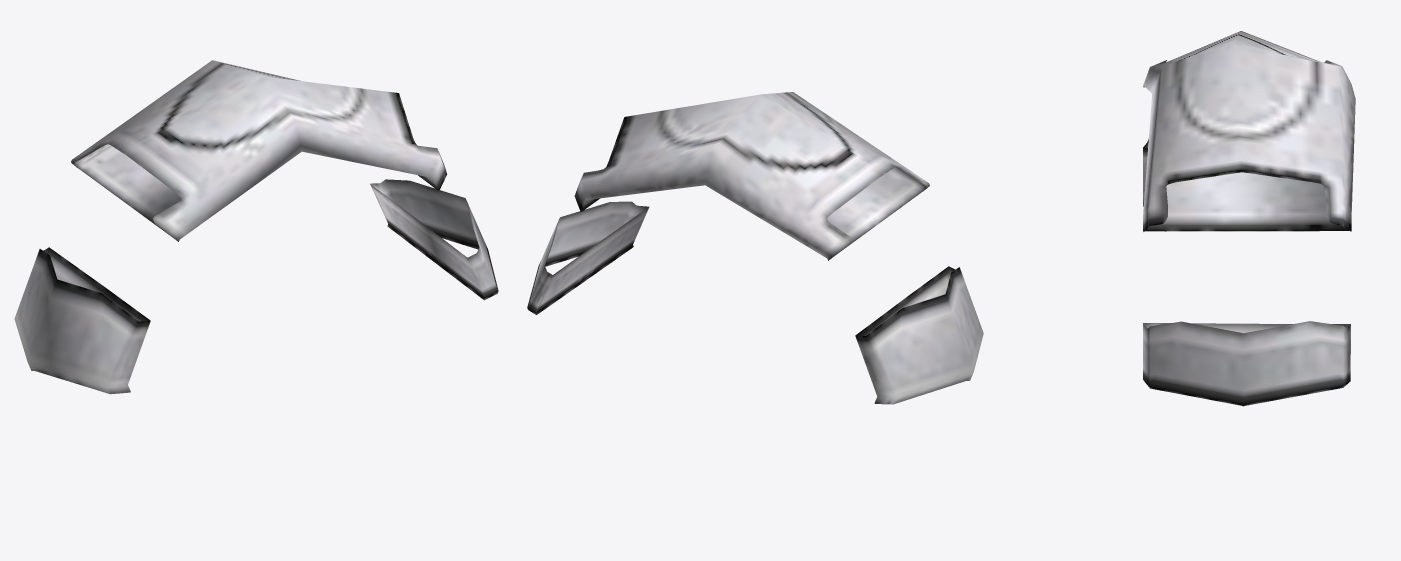
Rendered from ring_s02.fbx.
3 views of the same model, side by side, from view 1: azimuth 30°, elevation 25°; view 2: azimuth 150°, elevation 25°; view 3: azimuth 270°, elevation 25° (orthographic). The views are drawn at different scales.
Parts seen in each view (by area): view 1: mesh_node; view 2: mesh_node; view 3: mesh_node.
Part boxes in pixels (x1,y1,x2,y2): mesh_node: (14,60,498,394); mesh_node: (527,92,983,404); mesh_node: (1143,31,1355,406).
Size of the model in its own units: 0.0246 by 0.0246 by 0.0167.
